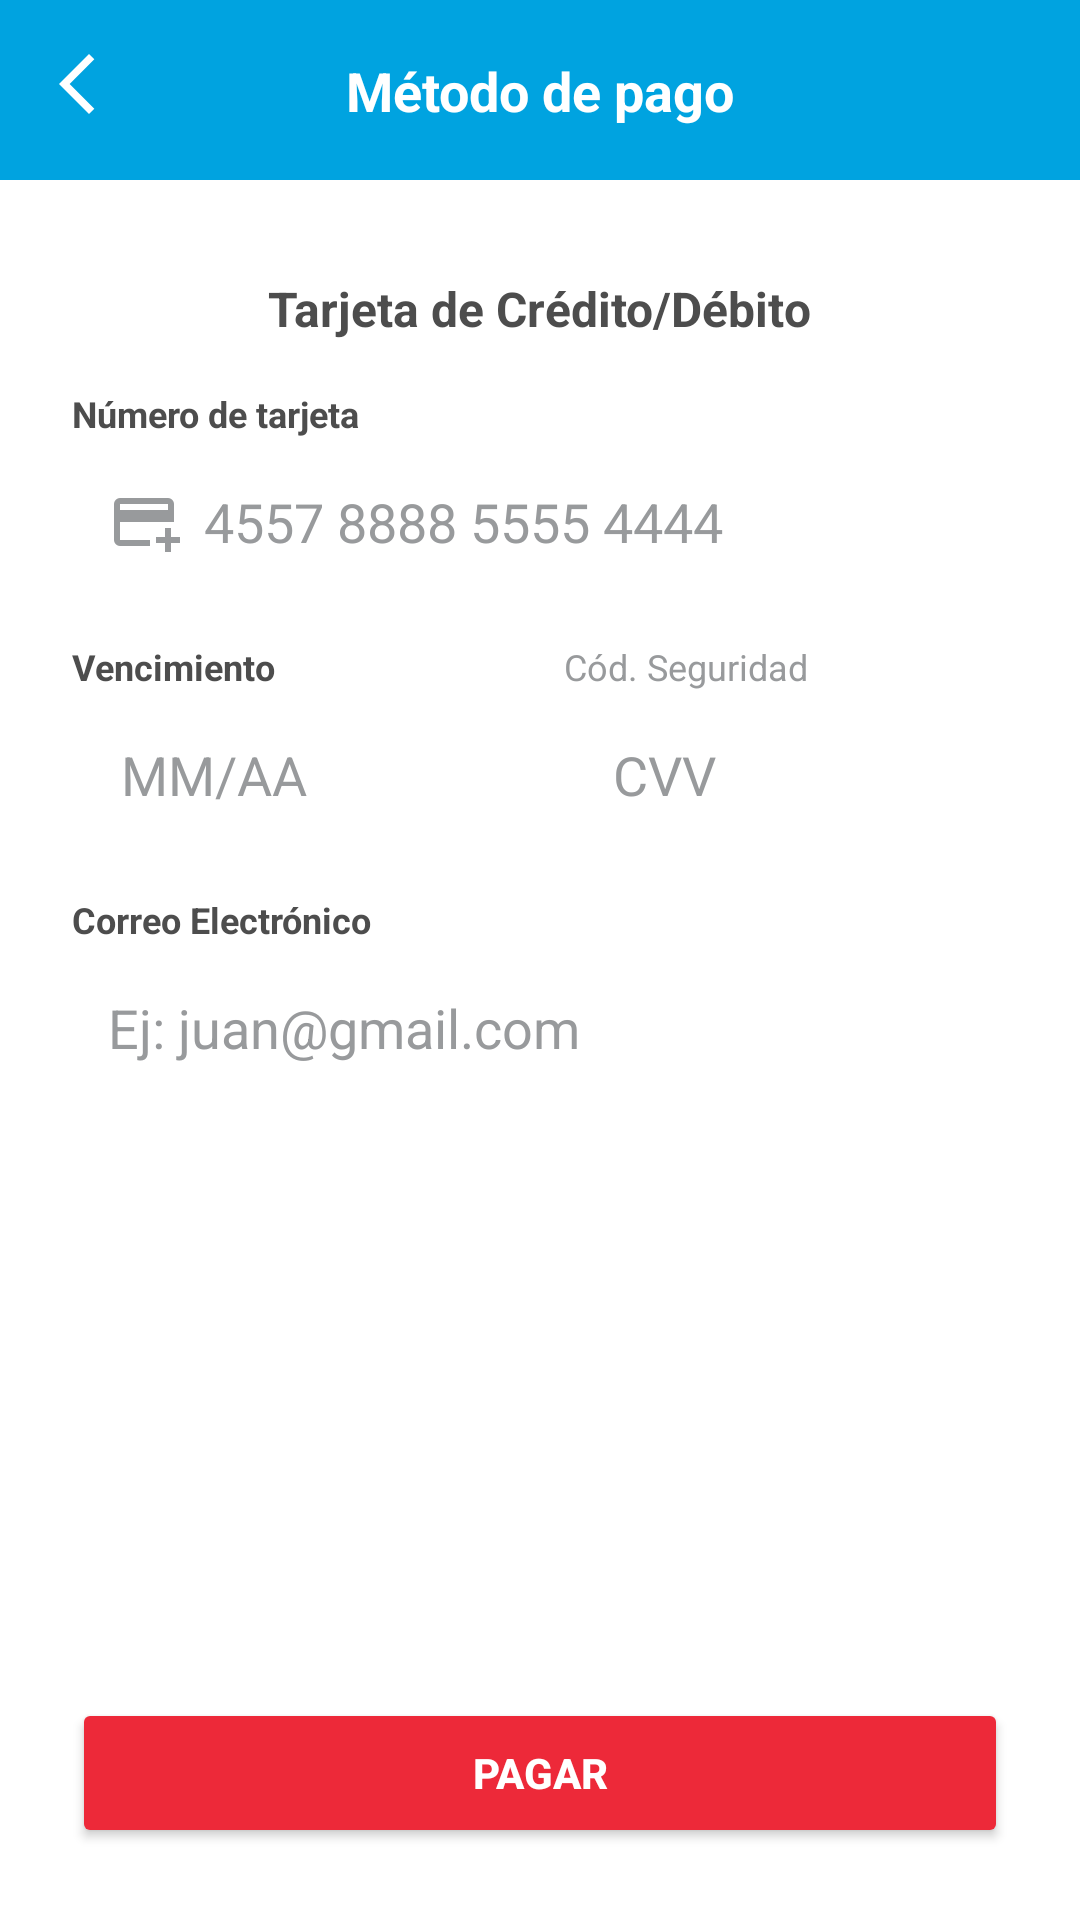

Screen size 1080px×1920px. Icon name, then its center in pixels as point (x, y):
Volver atrás: point (76, 84)
